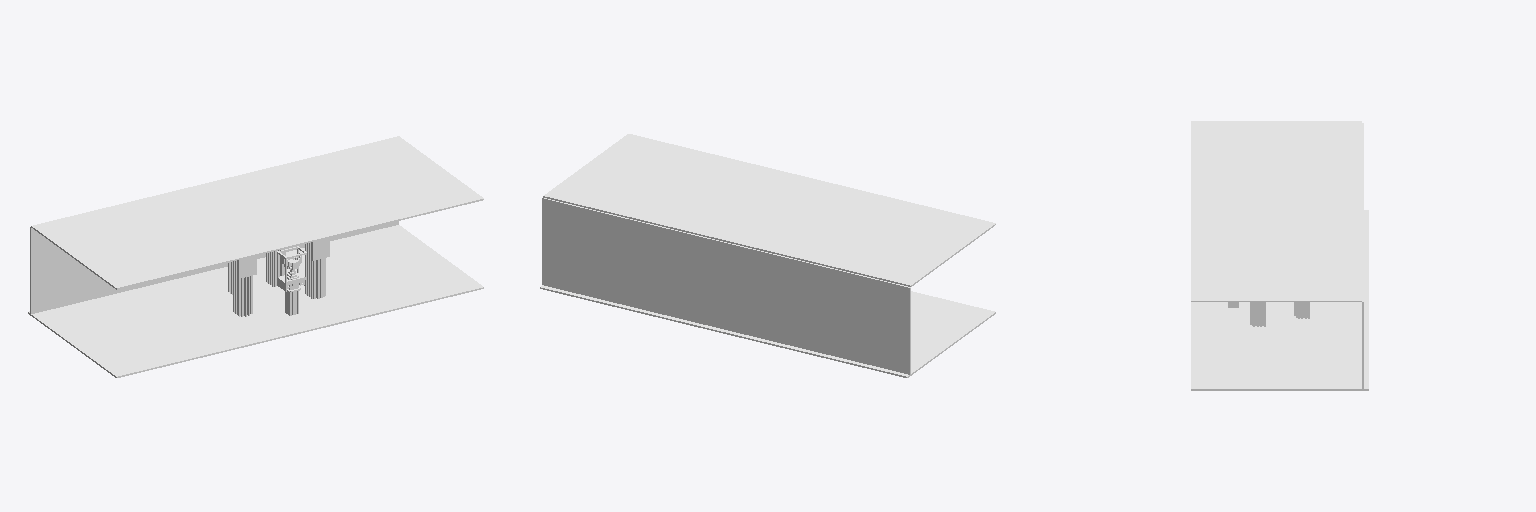
File: EndScreen.obj
3 renders of one model, left to right at view 1: azimuth 30°, elevation 25°; view 2: azimuth 150°, elevation 25°; view 3: azimuth 270°, elevation 25°, orthographic.
Parts seen in each view (by area): view 1: object 1; view 2: object 1; view 3: object 1.
Part boxes in pixels (x1,y1,x2,y2): object 1: (28, 136, 483, 377); object 1: (540, 134, 995, 377); object 1: (1191, 121, 1368, 390).
Bounding box in the file's own units: 23.9 × 5.6 × 10.